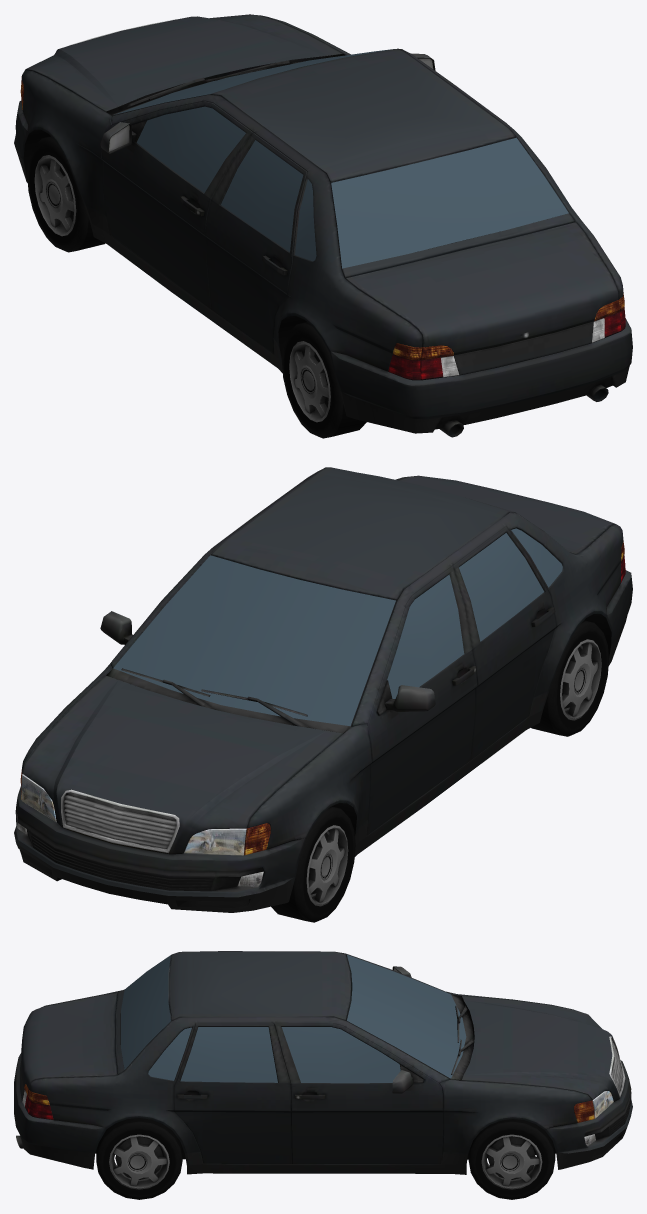
Rendered from sedan.lod1.glb.
3 views of the same model, one above another, from view 1: azimuth 30°, elevation 25°; view 2: azimuth 150°, elevation 25°; view 3: azimuth 270°, elevation 25° (orthographic). The views are drawn at different scales.
Parts seen in each view (by area): view 1: sedan_body, wheel_RL, wheel_FL; view 2: sedan_body, wheel_FL, wheel_RL; view 3: sedan_body, wheel_RR, wheel_FR.
Boxes of the visible parts, x1,y1,x2,y2 form: sedan_body: (14, 14, 632, 437); wheel_RL: (282, 322, 366, 438); wheel_FL: (27, 136, 104, 252); sedan_body: (14, 467, 632, 912); wheel_FL: (271, 806, 355, 922); wheel_RL: (531, 620, 608, 736); sedan_body: (14, 951, 632, 1174); wheel_RR: (96, 1118, 182, 1199); wheel_FR: (468, 1119, 555, 1199).
Size of the model in its own units: 2.09 by 1.45 by 4.7.
Materials: 5 (4 with a texture image).
